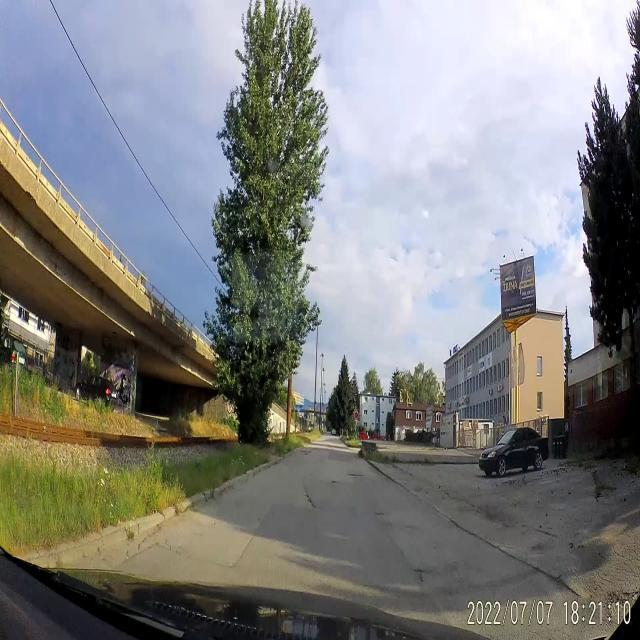Pothole: (411, 562, 432, 584), (302, 484, 317, 510), (347, 470, 365, 480), (300, 448, 313, 456), (374, 510, 384, 518), (331, 478, 338, 486)
